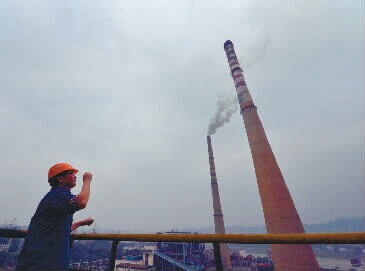dust: (202, 96, 239, 143)
